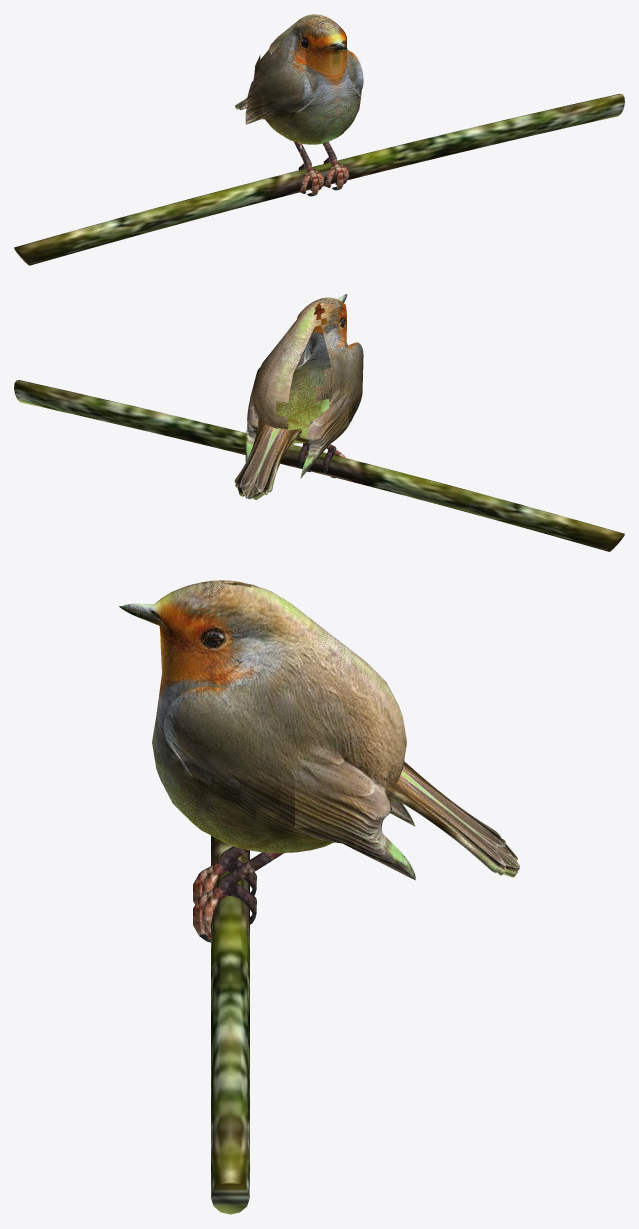
Rendered from bird.dae.
3 renders of one model, top to bottom at view 1: azimuth 30°, elevation 25°; view 2: azimuth 150°, elevation 25°; view 3: azimuth 270°, elevation 25°, orthographic. The views are drawn at different scales.
Visible parts, largest first — view 1: group_2, group_4, group_3 (×2); view 2: group_2, group_4, group_1; view 3: group_4, group_2, group_1, group_3 (×2).
Part boxes in pixels (left/top/right/bottom): group_2: left=14, top=93, right=624, bottom=265; group_4: left=245, top=14, right=363, bottom=144; group_3 (×2): left=294, top=141, right=348, bottom=194; group_2: left=14, top=380, right=624, bottom=551; group_4: left=245, top=294, right=363, bottom=478; group_1: left=234, top=418, right=301, bottom=499; group_4: left=119, top=580, right=415, bottom=880; group_2: left=211, top=835, right=249, bottom=1214; group_1: left=385, top=761, right=519, bottom=877; group_3 (×2): left=193, top=846, right=283, bottom=938.
Bounding box in the file's own units: 8.62 × 2.47 × 2.4.
4 materials, 4 textured.
